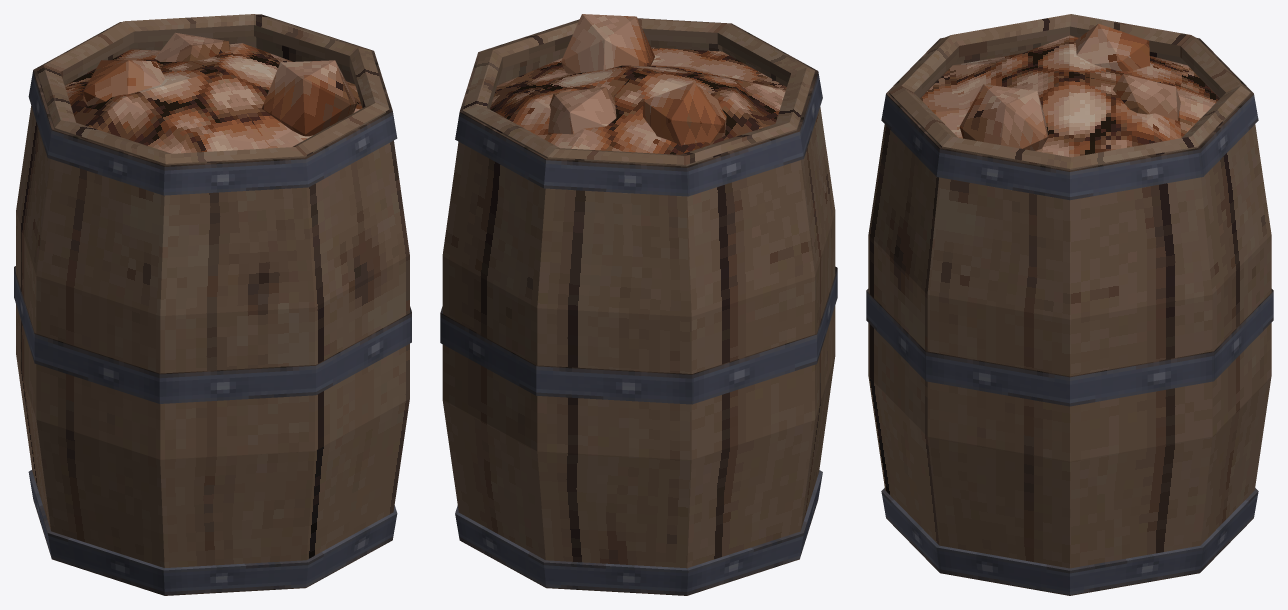
Rendered from barrel_onion_small.glb.
3 renders of one model, left to right at view 1: azimuth 30°, elevation 25°; view 2: azimuth 150°, elevation 25°; view 3: azimuth 270°, elevation 25°, orthographic.
Parts seen in each view (by area): view 1: barrel_onion_small; view 2: barrel_onion_small; view 3: barrel_onion_small.
Part boxes in pixels (<box>): barrel_onion_small: <box>14,14,411,595</box>; barrel_onion_small: <box>440,14,837,595</box>; barrel_onion_small: <box>866,14,1273,595</box>.
Size of the model in its own units: 0.7146 by 0.8927 by 0.7146.
3 materials, 3 textured.
